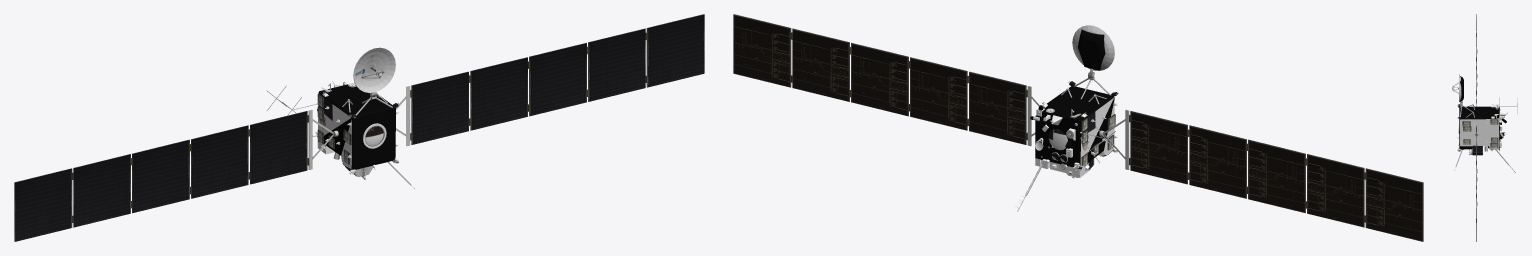
The model's file is rosetta.obj.
3 views of the same model, side by side, from view 1: azimuth 30°, elevation 25°; view 2: azimuth 150°, elevation 25°; view 3: azimuth 270°, elevation 25° (orthographic). The views are drawn at different scales.
Visible parts, largest first — view 1: panels_02_Rosetta.015, panels_01_Rosetta.008, black_krinkle_Rosetta.003, dish_Rosetta.001, vents_Cube.012, foil_silver_Rosetta.005; view 2: panels_02_Rosetta.015, panels_01_Rosetta.008, black_krinkle_Rosetta.003, dish_Rosetta.001, vents_Cube.012; view 3: black_krinkle_Rosetta.003, dish_Rosetta.001, vents_Cube.012, panels_01_Rosetta.008, panels_02_Rosetta.015, vents.004_Cube.003, foil_gold_Rosetta.004.
Boxes of the visible parts, box(x1,y1,x2,y2) form: panels_02_Rosetta.015: box(14, 109, 338, 241); panels_01_Rosetta.008: box(396, 14, 704, 146); black_krinkle_Rosetta.003: box(316, 82, 398, 174); dish_Rosetta.001: box(266, 47, 415, 188); vents_Cube.012: box(317, 94, 351, 164); foil_silver_Rosetta.005: box(318, 126, 383, 153); panels_02_Rosetta.015: box(1099, 109, 1423, 241); panels_01_Rosetta.008: box(733, 14, 1039, 146); black_krinkle_Rosetta.003: box(1035, 29, 1117, 177); dish_Rosetta.001: box(1015, 25, 1118, 211); vents_Cube.012: box(1081, 114, 1115, 166); black_krinkle_Rosetta.003: box(1458, 76, 1505, 150); dish_Rosetta.001: box(1452, 74, 1517, 172); vents_Cube.012: box(1462, 119, 1498, 148); panels_01_Rosetta.008: box(1475, 124, 1478, 241); panels_02_Rosetta.015: box(1476, 14, 1477, 106); vents.004_Cube.003: box(1472, 146, 1482, 155); foil_gold_Rosetta.004: box(1458, 119, 1487, 142).
Size of the model in its own units: 31.96 by 6.92 by 4.55.
Materials: 17 (15 with a texture image).
